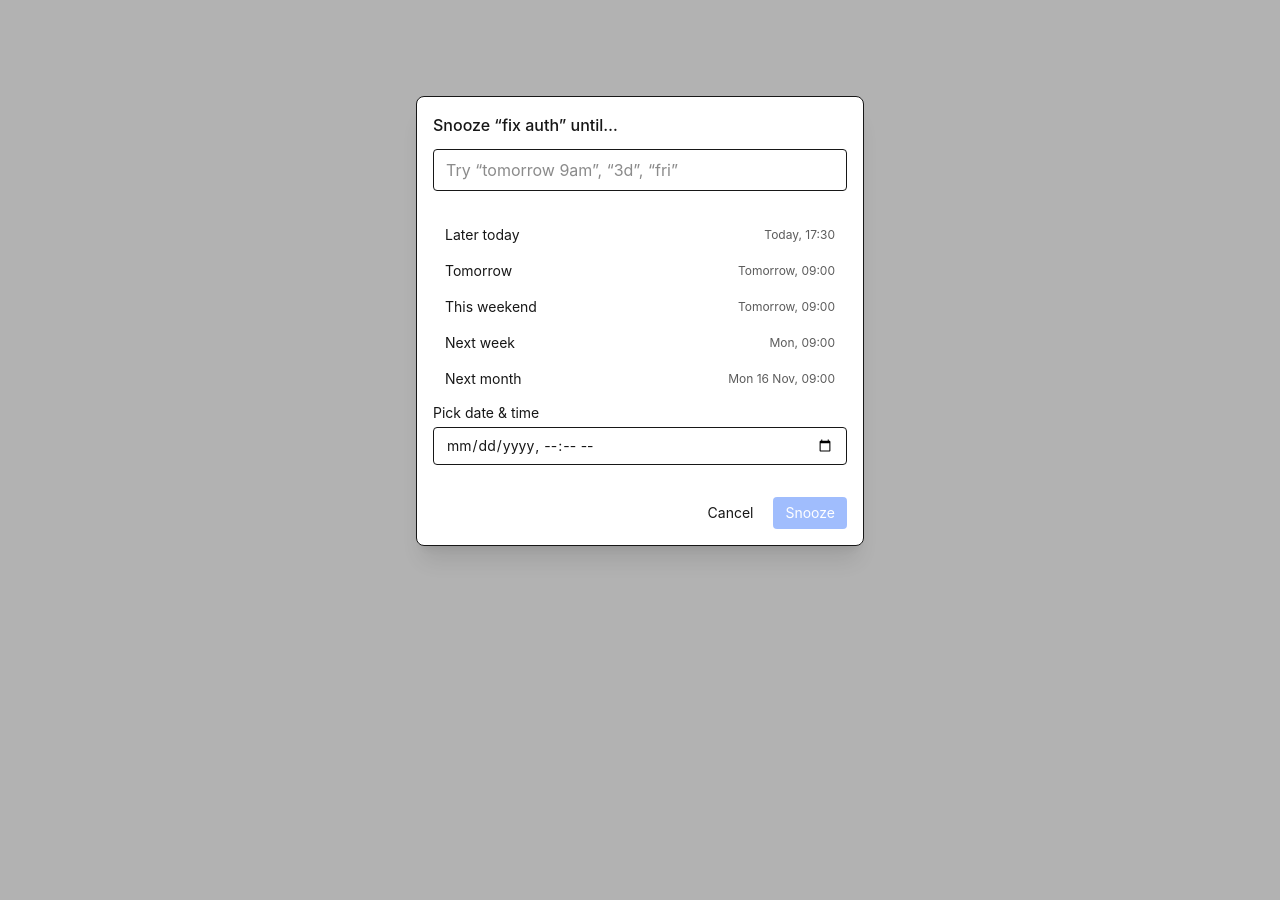
SnoozeDialog › previews the picker time and enables Snooze
Step 1. Type "2026-10-20T08:15" into the field labelled "Pick date & time" → (640, 446), box [433,427,847,465]
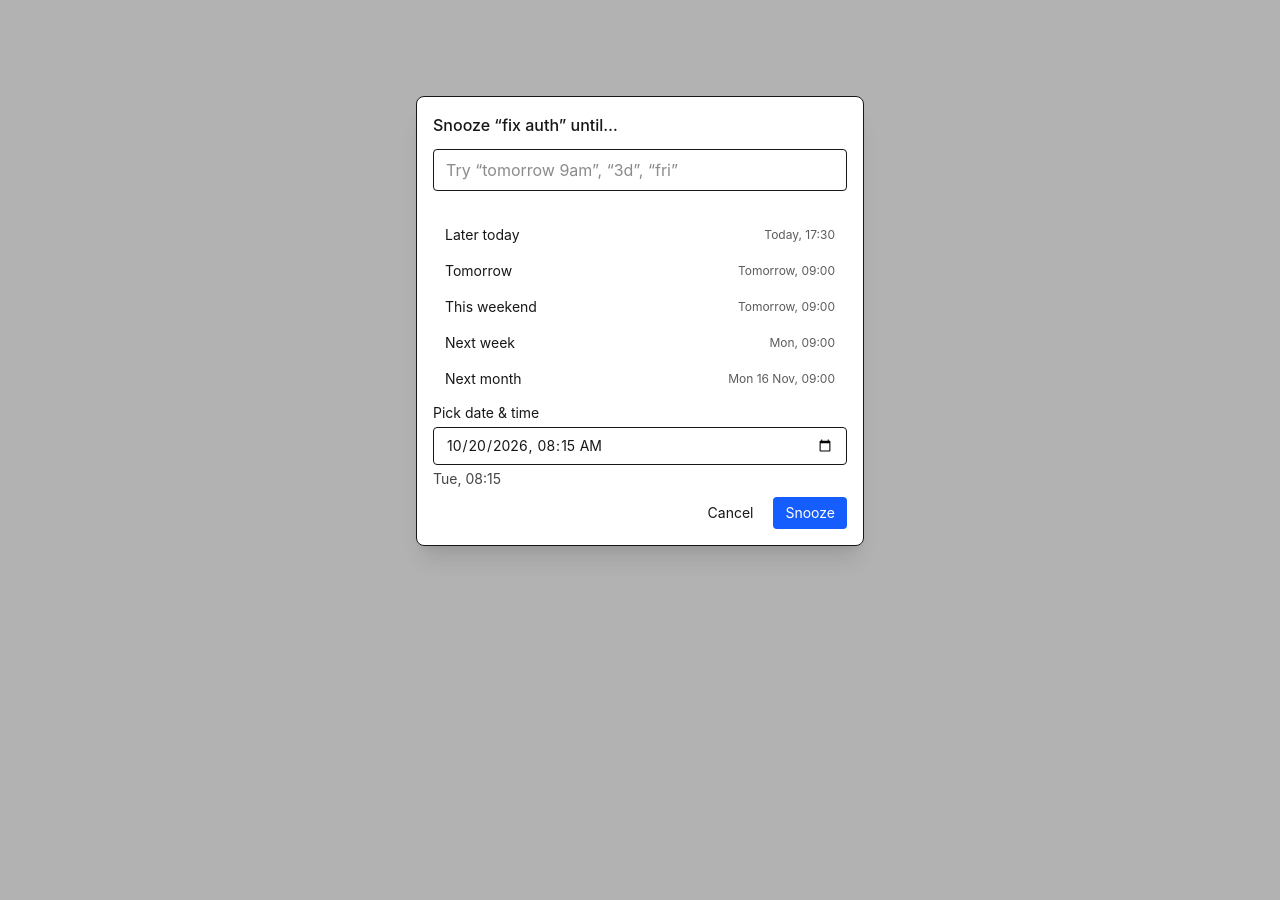
Result: the button "Snooze" is enabled at [774,497,847,529]
